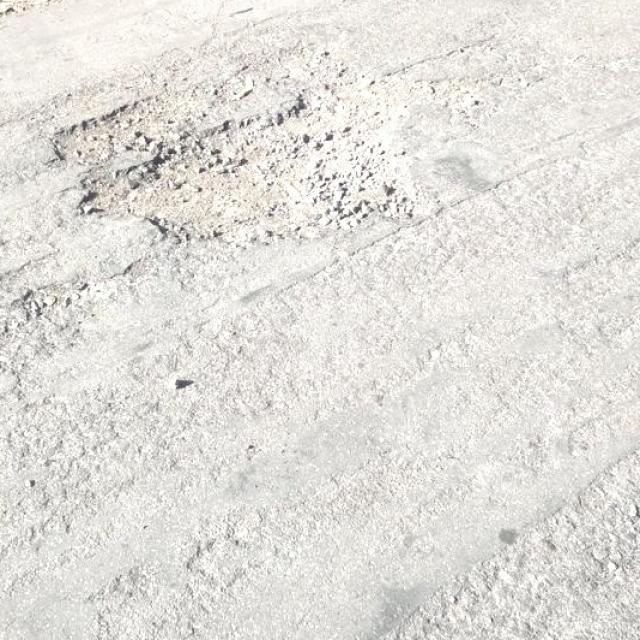road-pothole: (47, 15, 457, 266)
